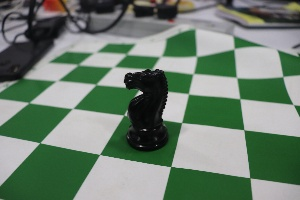black_horse: (108, 54, 179, 156)
